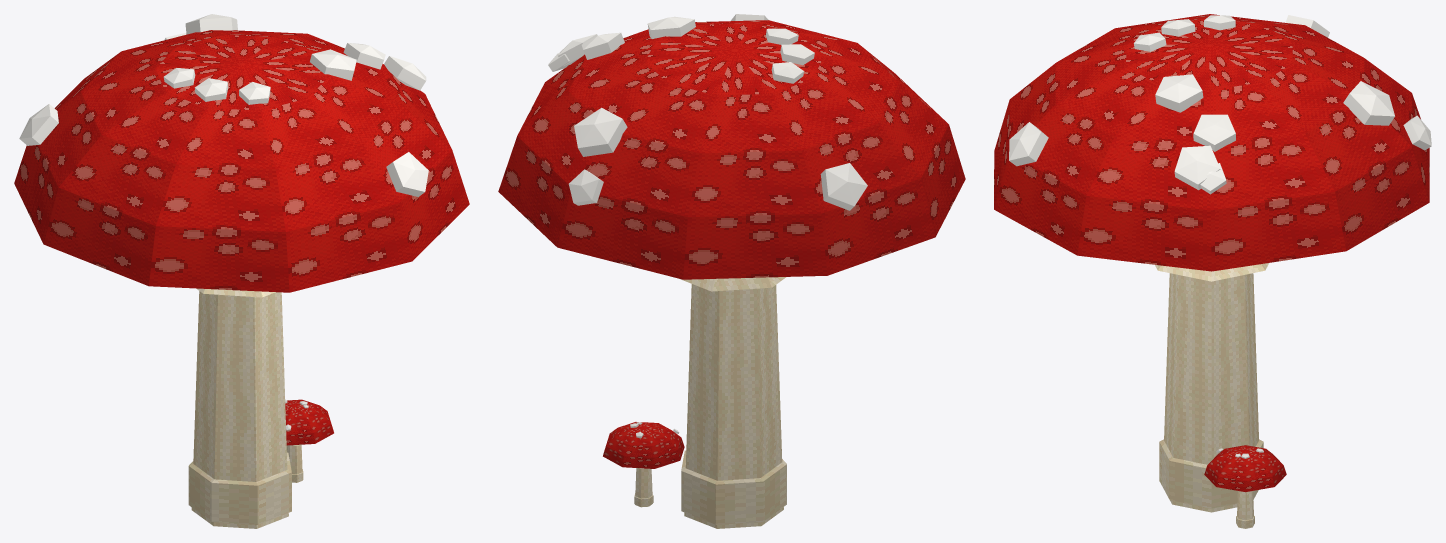
Rendered from toadstool_red.glb.
3 renders of one model, left to right at view 1: azimuth 30°, elevation 25°; view 2: azimuth 150°, elevation 25°; view 3: azimuth 270°, elevation 25°, orthographic. The views are drawn at different scales.
Visible parts, largest first — view 1: toadstool_red; view 2: toadstool_red; view 3: toadstool_red.
Boxes of the visible parts, x1,y1,x2,y2 form: toadstool_red: (14, 14, 469, 528); toadstool_red: (498, 14, 965, 528); toadstool_red: (994, 14, 1431, 528).
Bounding box in the file's own units: 3.88 × 4.32 × 3.71.
4 materials, 3 textured.
